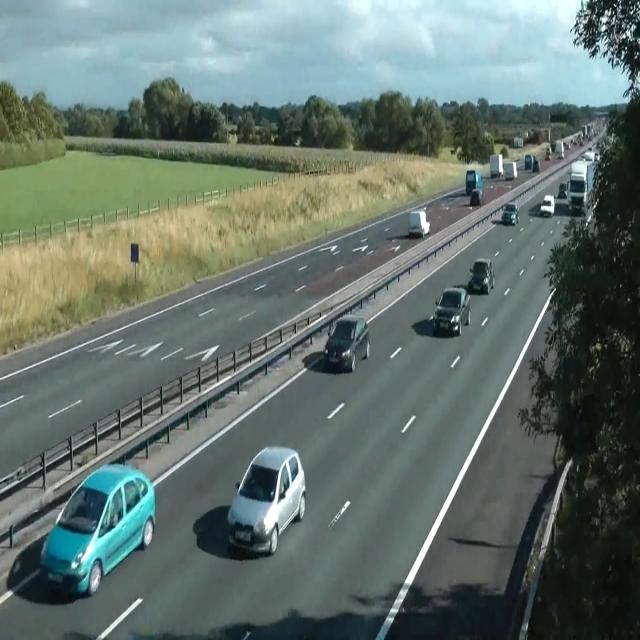bus: (468, 257, 494, 295), (501, 202, 519, 225), (540, 194, 554, 217), (470, 188, 482, 205), (558, 182, 566, 198)
jeep: (39, 462, 156, 598), (226, 444, 306, 556), (322, 314, 370, 372), (432, 285, 470, 336), (408, 210, 430, 237)
minibus: (568, 160, 598, 213), (466, 169, 482, 204), (489, 153, 503, 178), (525, 153, 539, 172), (503, 161, 517, 179), (555, 140, 565, 158), (513, 136, 523, 148)
